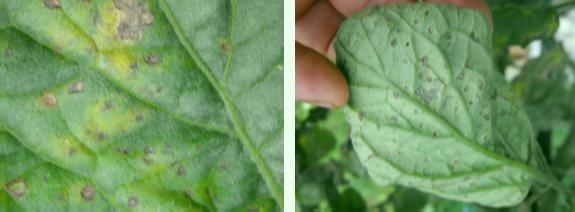Tomato Septoria leaf spot: (2, 10, 270, 205), (318, 5, 544, 205)
